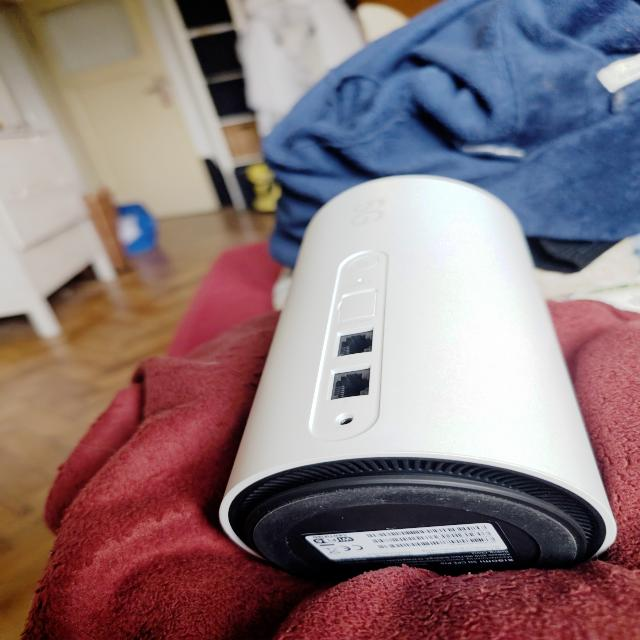lan: (328, 366, 372, 398), (331, 329, 375, 357)
modem: (223, 180, 621, 572)
onbutton: (342, 252, 384, 275)
pow: (313, 399, 378, 445)
sim: (340, 290, 385, 323)
